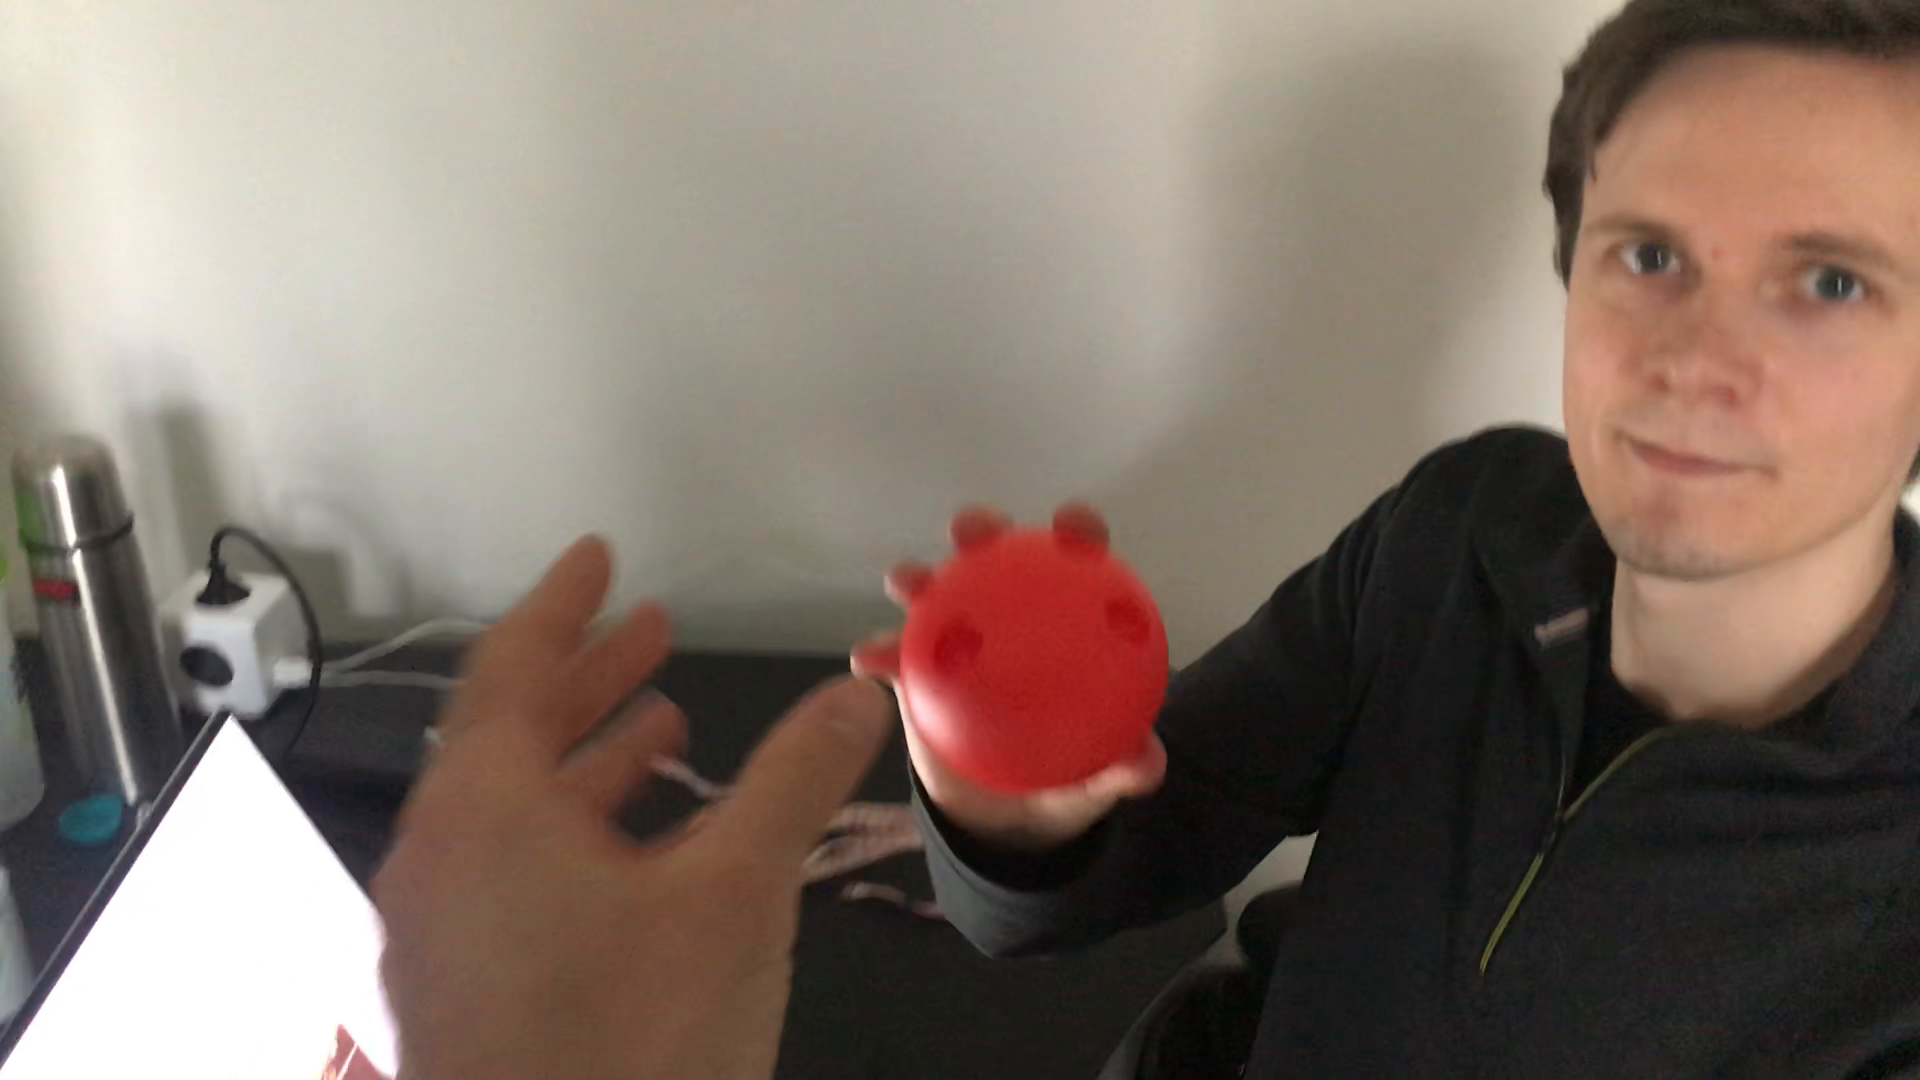Ball: (898, 539, 1168, 793)
